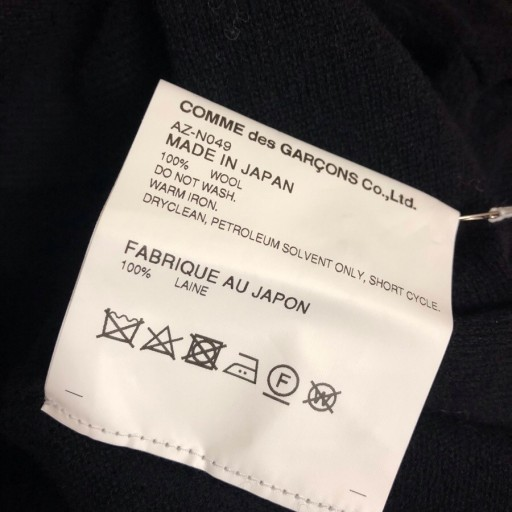ER_dry_clean_hydrocarbon_mild: (261, 362, 302, 406)
ER_iron_medium_temp: (222, 350, 263, 390)
ER_no_bleach: (141, 322, 182, 360)
ER_no_tumble_dry: (184, 329, 223, 373)
ER_no_wash: (98, 306, 139, 348)
ER_no_wet_clean: (304, 376, 339, 417)
